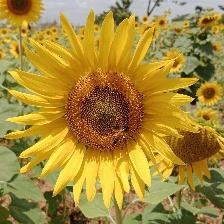sunflower: (12, 14, 187, 204)
